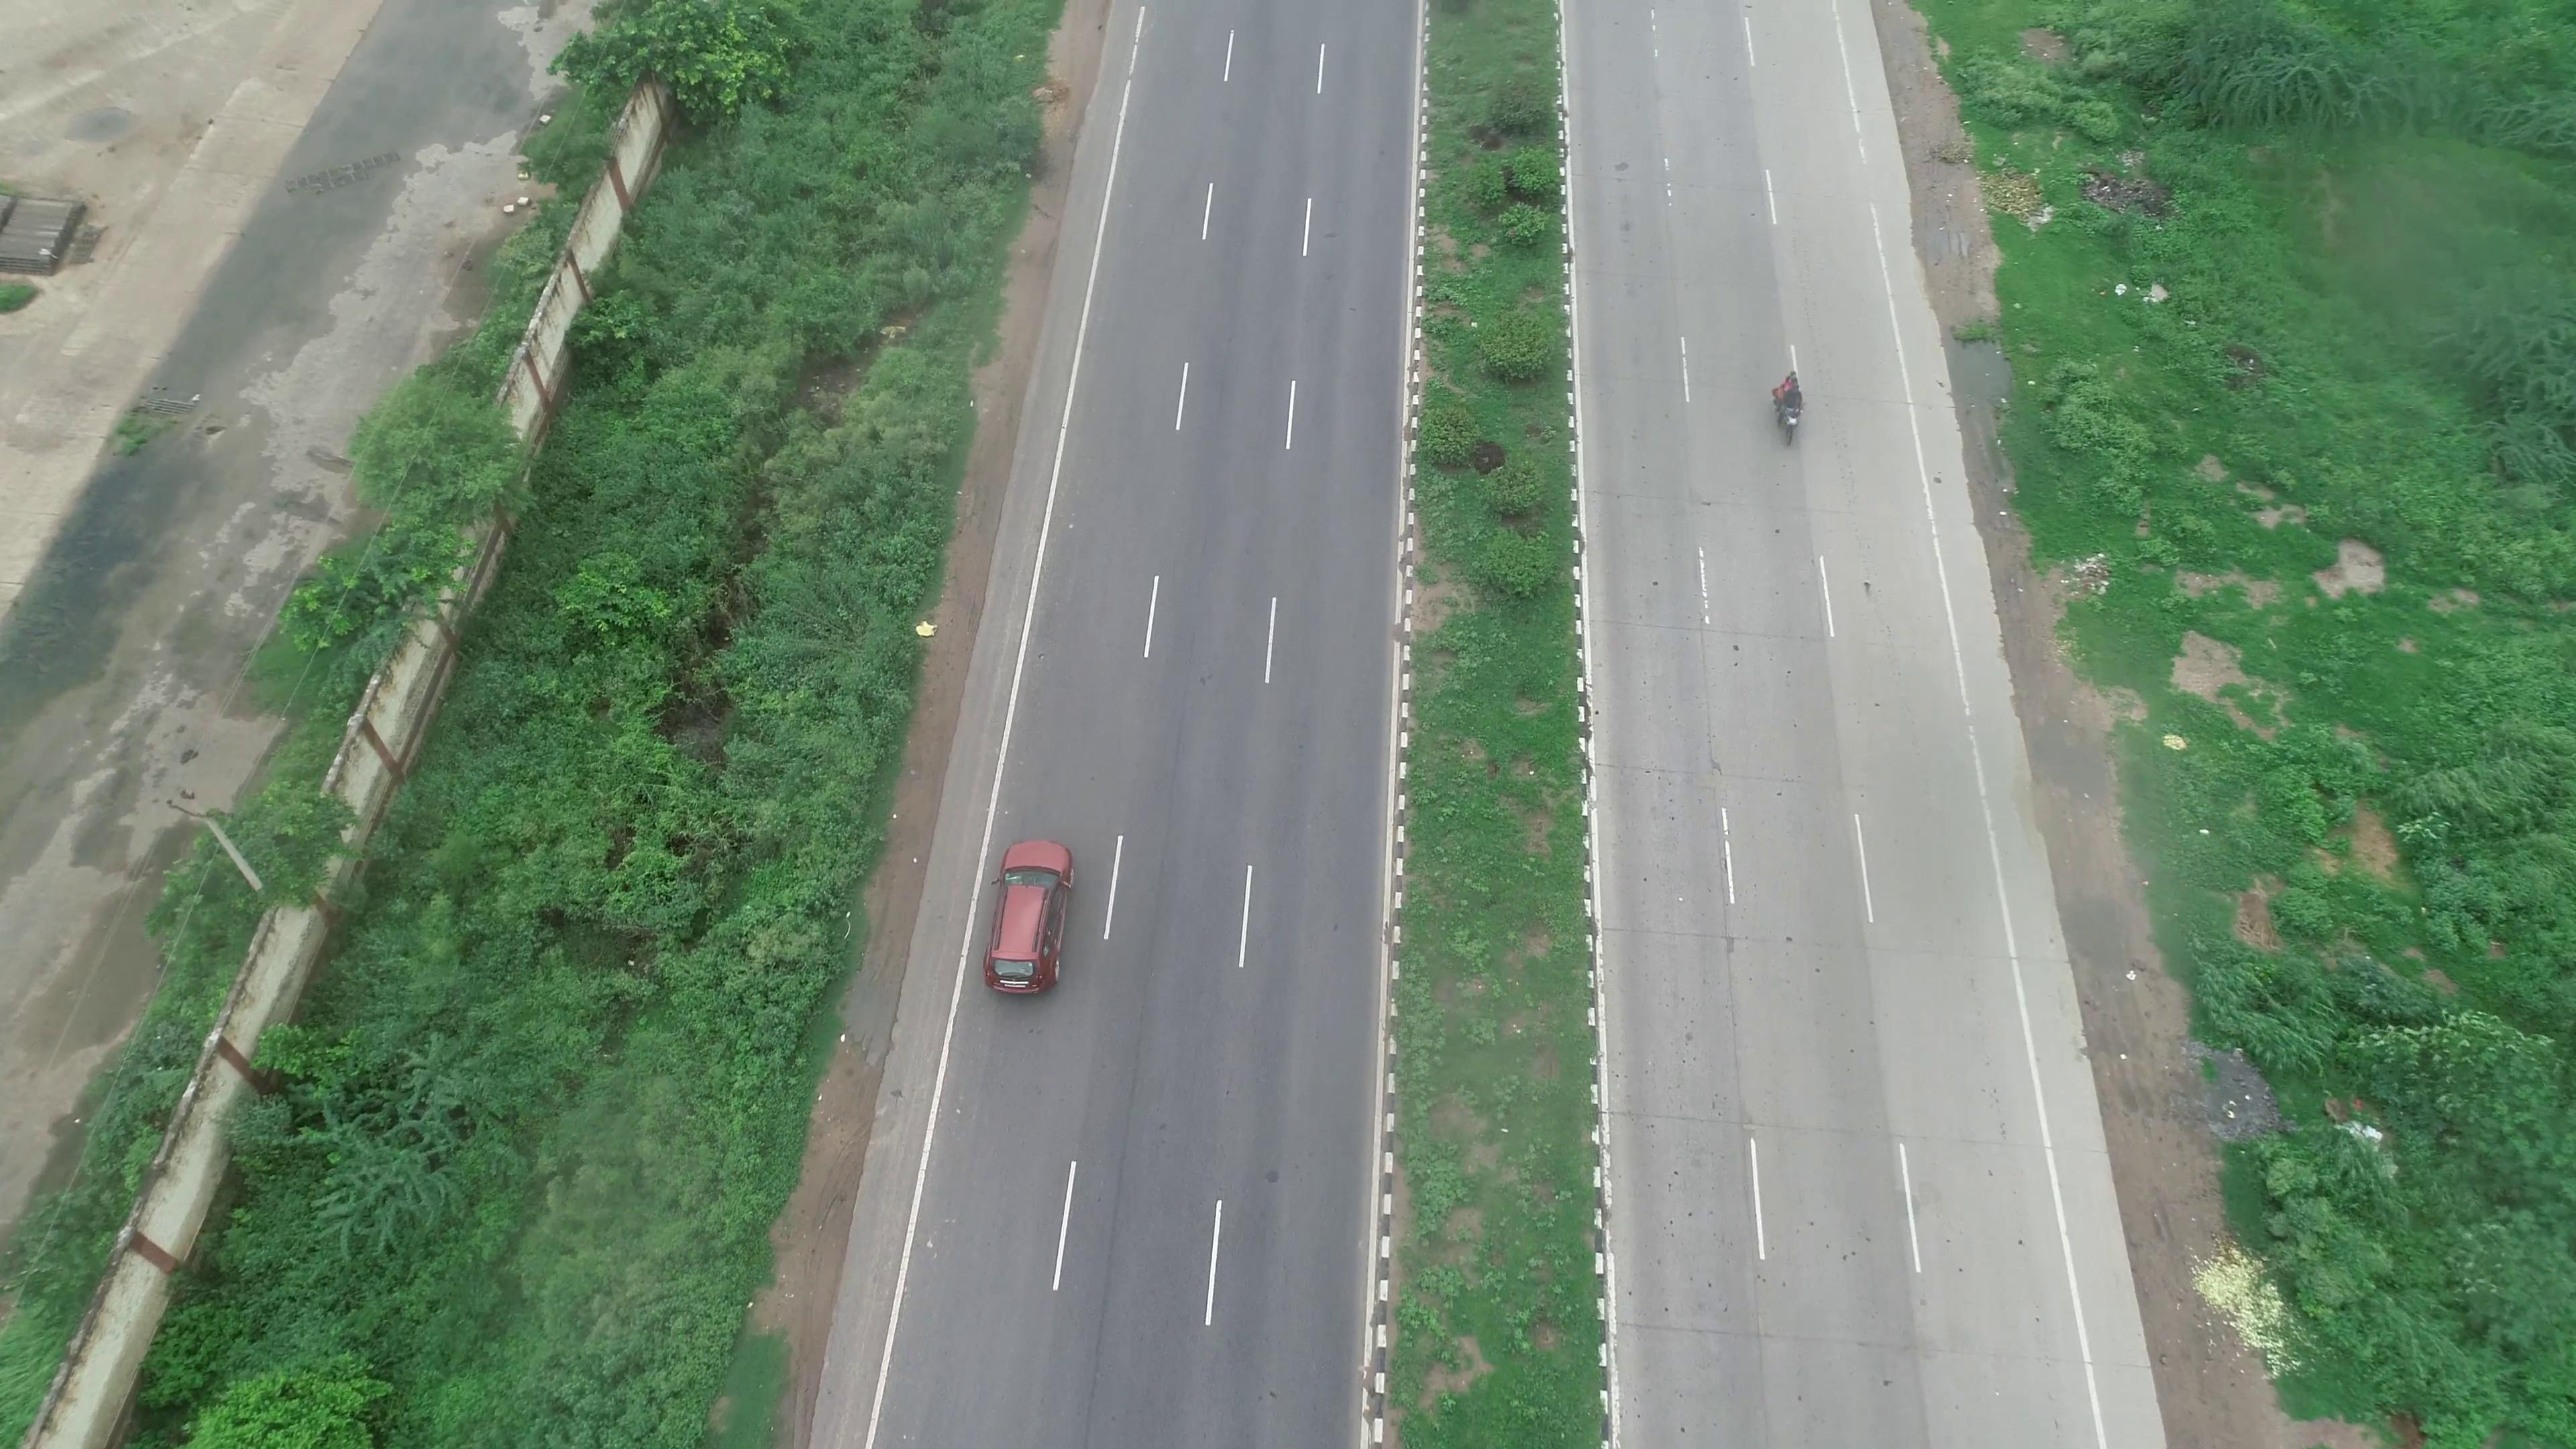Longitudinal_cracks: (1072, 1095, 1150, 1437), (1123, 708, 1189, 1085)
